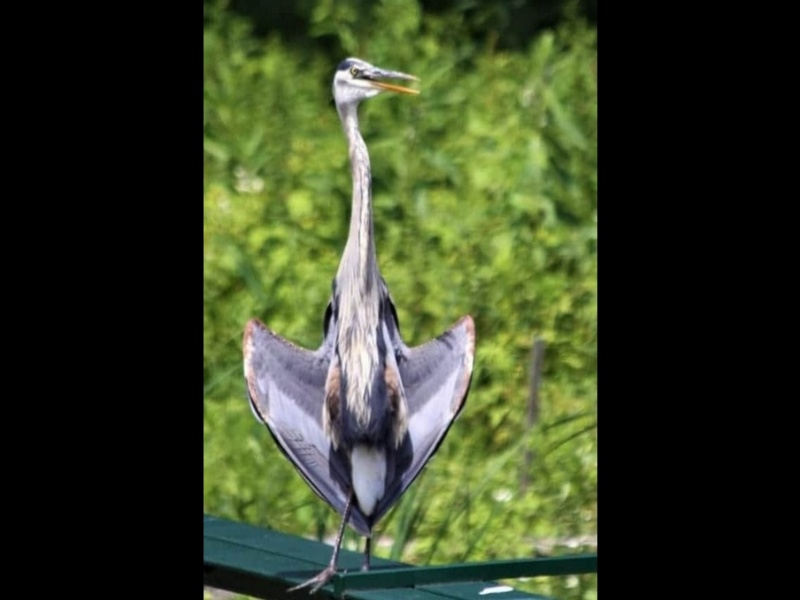heron: (241, 49, 479, 587)
